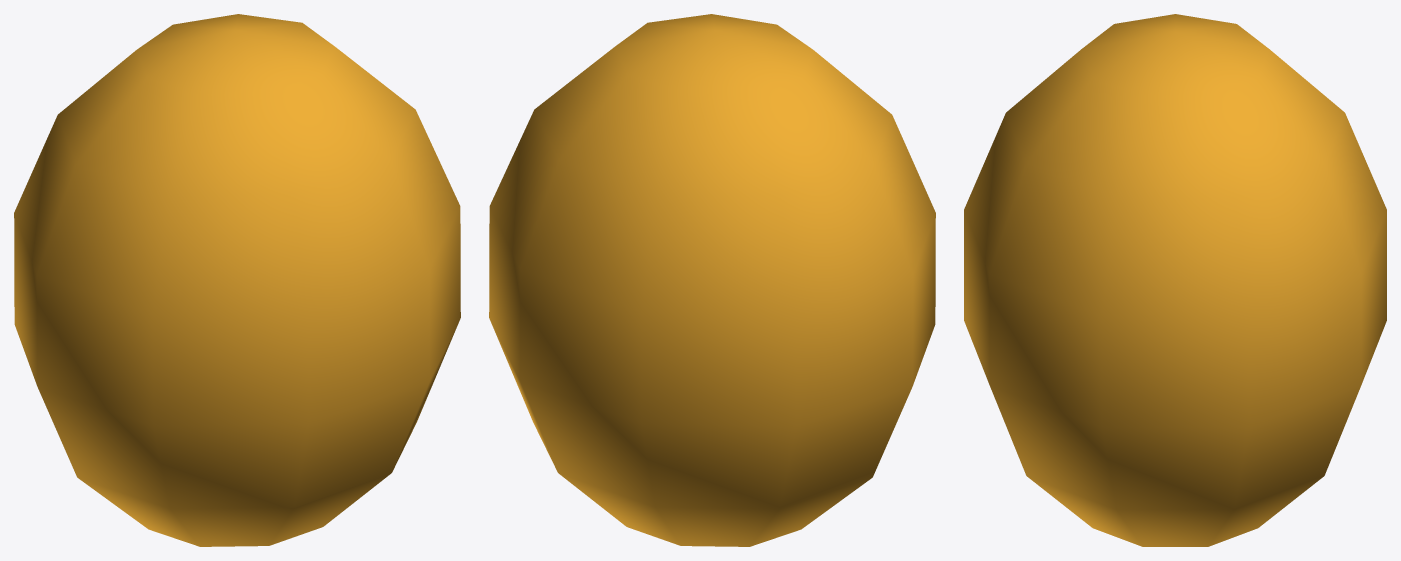
Rendered from grano-choclo-duro.glb.
3 views of the same model, side by side, from view 1: azimuth 30°, elevation 25°; view 2: azimuth 150°, elevation 25°; view 3: azimuth 270°, elevation 25° (orthographic).
Visible parts, largest first — view 1: cuerpo; view 2: cuerpo; view 3: cuerpo.
Part boxes in pixels (x1,y1,x2,y2): cuerpo: [14, 14, 460, 546]; cuerpo: [489, 14, 935, 546]; cuerpo: [964, 14, 1386, 546].
Size of the model in its own units: 0.2032 by 0.252 by 0.1935.
